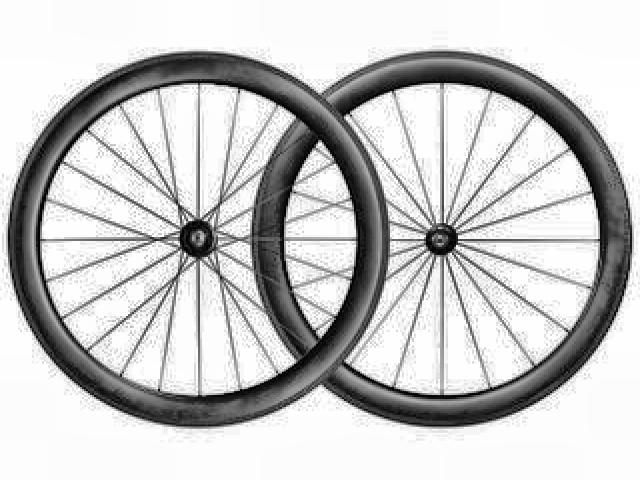wheel: (239, 41, 640, 435), (4, 48, 396, 438)
